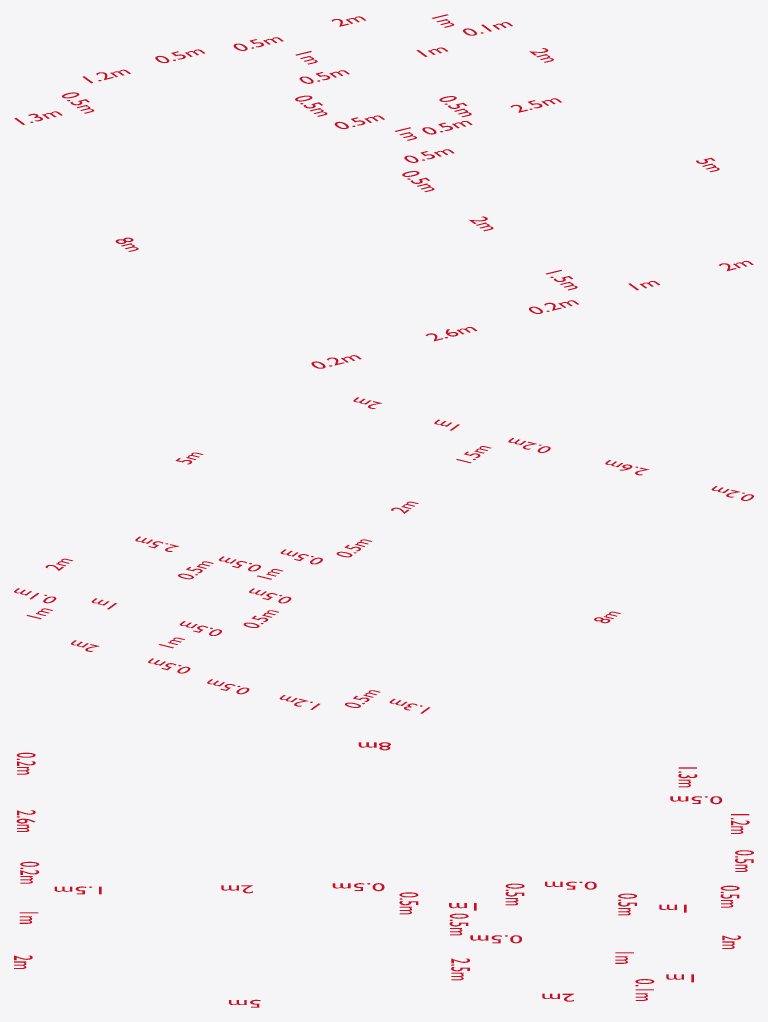
Rendered from квартира1_размеры.fbx.
3 views of the same model, one above another, from view 1: azimuth 30°, elevation 25°; view 2: azimuth 150°, elevation 25°; view 3: azimuth 270°, elevation 25° (orthographic). The views are drawn at different scales.
Bounding box in the file's own units: 1506 × 7.44e-06 × 1774.
